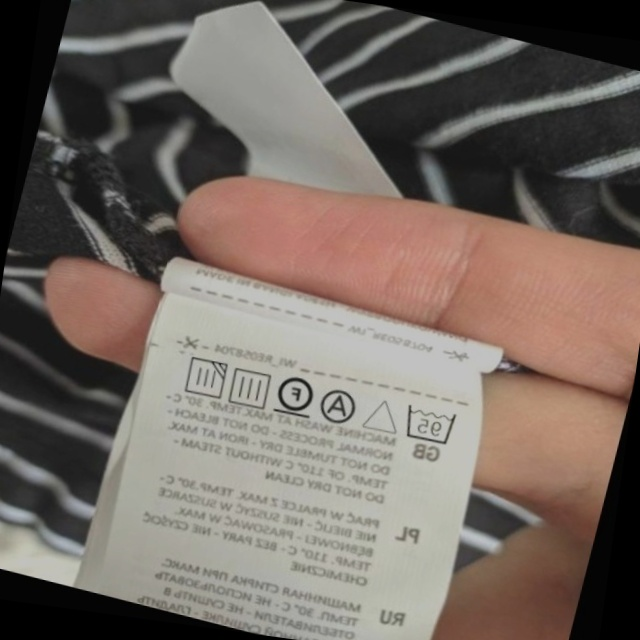95C: (397, 397, 462, 450)
bleach: (360, 390, 405, 440)
drip_dry: (223, 361, 277, 413)
drip_dry_in_shade: (176, 350, 231, 405)
dry_clean: (316, 383, 363, 429)
dry_clean_petrol_only: (270, 367, 320, 422)
